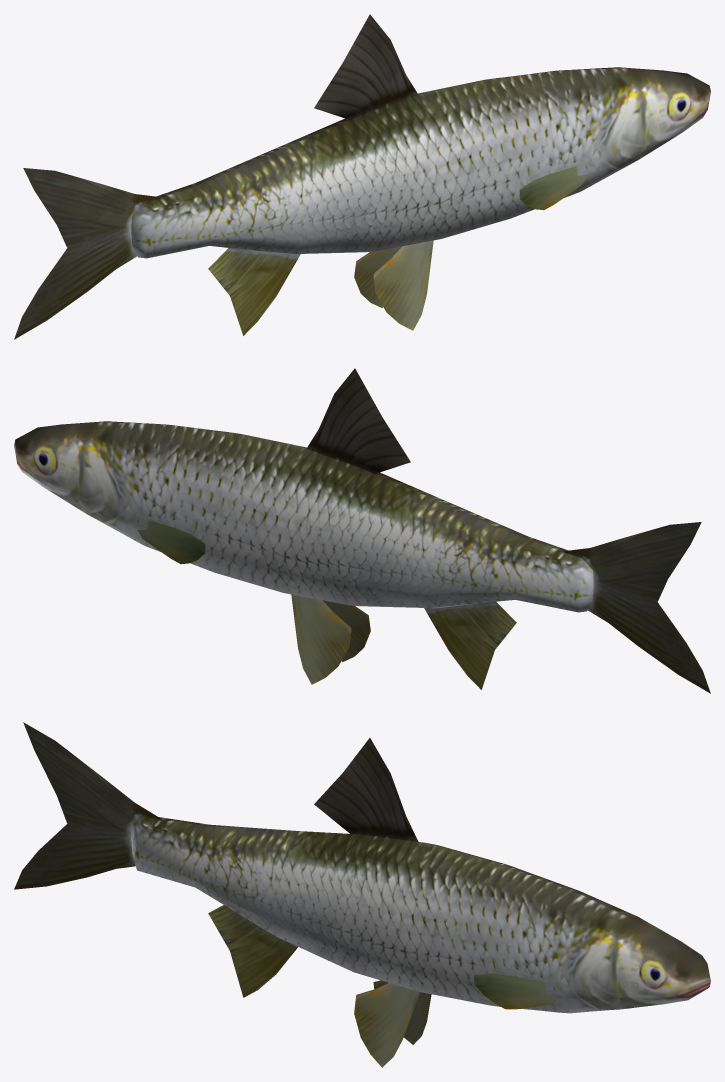
The model's file is Dace.glb.
The picture shows the model from 3 angles, top to bottom: view 1: azimuth 30°, elevation 25°; view 2: azimuth 150°, elevation 25°; view 3: azimuth 330°, elevation 25°; orthographic projection.
Visible parts, largest first — view 1: Dace; view 2: Dace; view 3: Dace.
Boxes of the visible parts, x1=… form: Dace: x1=14, y1=14, x2=710, y2=339; Dace: x1=14, y1=368, x2=710, y2=693; Dace: x1=14, y1=722, x2=710, y2=1067.
Bounding box in the file's own units: 2 × 0.8564 × 0.2273.
Materials: 1 (1 with a texture image).
